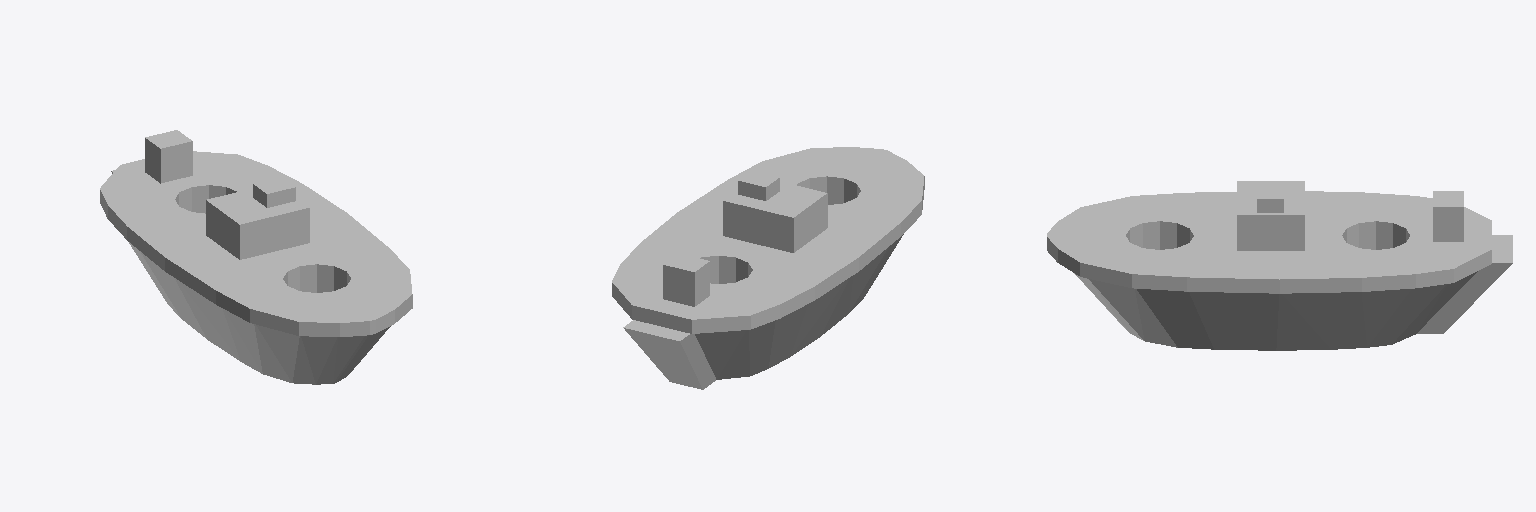
The model's file is PatrolBoat.obj.
The picture shows the model from 3 angles: view 1: azimuth 30°, elevation 25°; view 2: azimuth 150°, elevation 25°; view 3: azimuth 270°, elevation 25°; orthographic projection.
Parts seen in each view (by area): view 1: pCube36; view 2: pCube36; view 3: pCube36.
Boxes of the visible parts, x1,y1,x2,y2 form: pCube36: [100, 130, 412, 384]; pCube36: [612, 147, 924, 389]; pCube36: [1047, 181, 1512, 350].
Bounding box in the file's own units: 0.9732 × 0.7178 × 2.16.